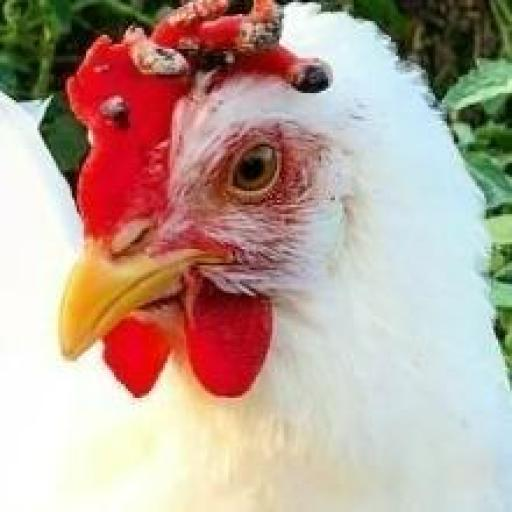disease: (233, 7, 382, 103), (162, 4, 244, 96), (77, 63, 149, 138), (112, 12, 182, 84)
